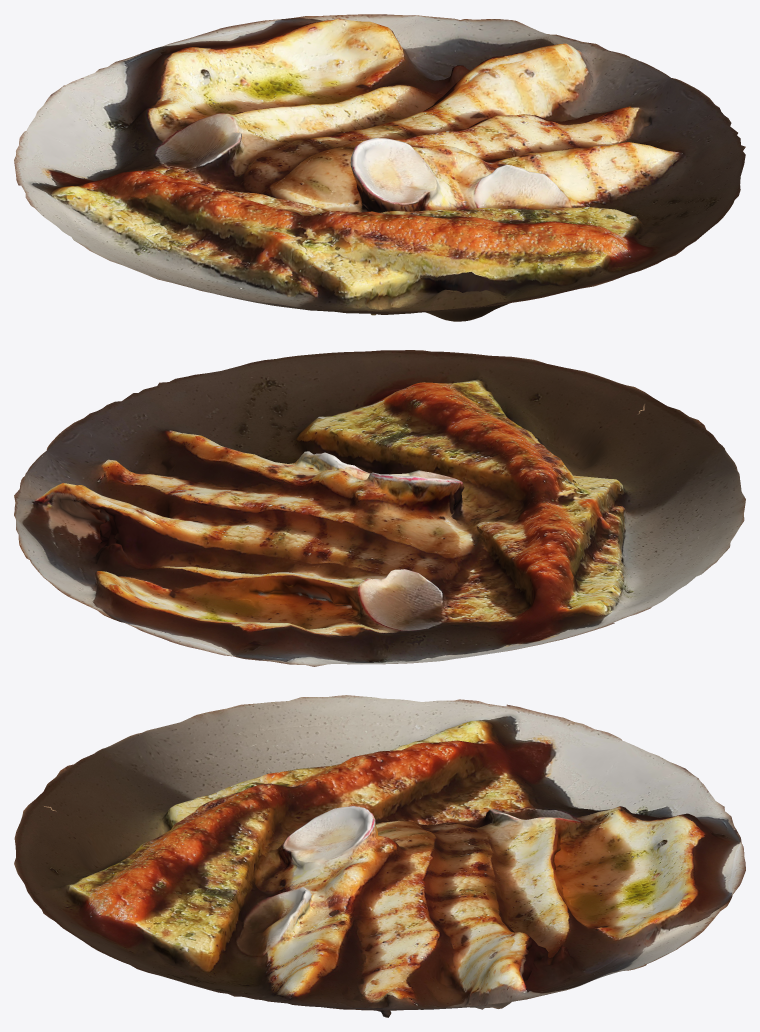
The model's file is tavuk.glb.
3 views of the same model, one above another, from view 1: azimuth 30°, elevation 25°; view 2: azimuth 150°, elevation 25°; view 3: azimuth 270°, elevation 25° (orthographic).
Parts seen in each view (by area): view 1: tavuk v1; view 2: tavuk v1; view 3: tavuk v1.
Part boxes in pixels (x1,y1,x2,y2): tavuk v1: [14, 14, 745, 321]; tavuk v1: [14, 350, 745, 666]; tavuk v1: [14, 695, 745, 1017].
Size of the model in its own units: 0.2889 by 0.0355 by 0.2918.
Materials: 1 (1 with a texture image).
